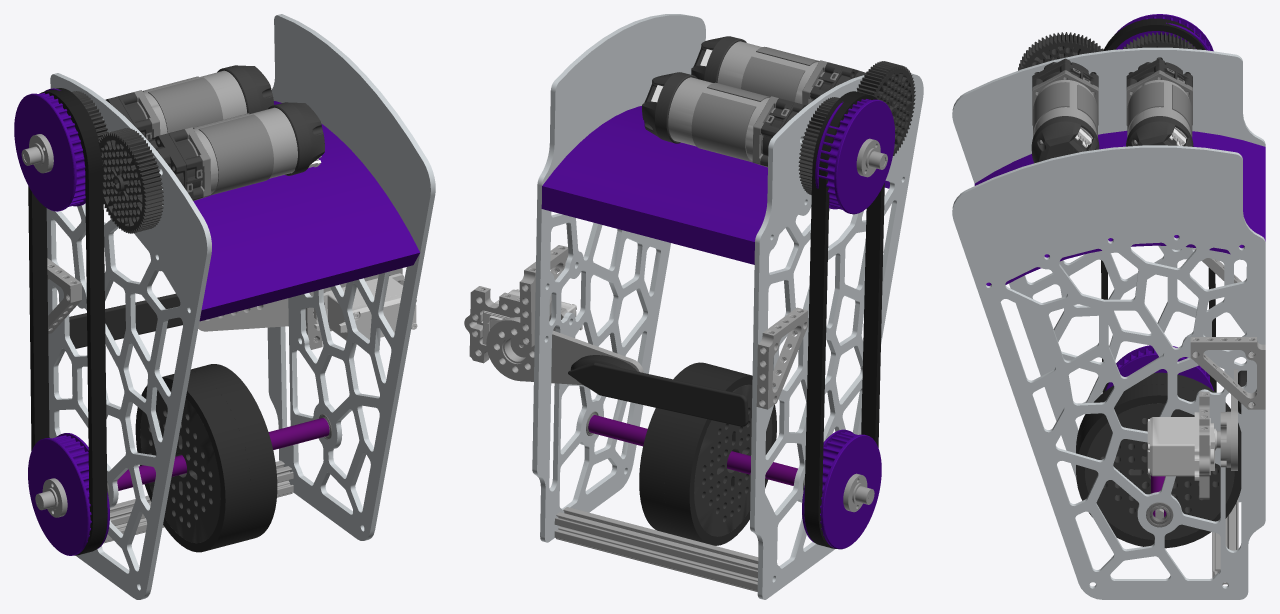
Rendered from shooter.glb.
3 renders of one model, left to right at view 1: azimuth 30°, elevation 25°; view 2: azimuth 150°, elevation 25°; view 3: azimuth 270°, elevation 25°, orthographic. The views are drawn at different scales.
Visible parts, largest first — view 1: Part 1-4.step-1, sev _1_.step-1/3612 Series Thin Rhino Wheel (14mm Bore, 96mm; view 2: Part 1-4.step-1, sev _1_.step-1/3612 Series Thin Rhino Wheel (14mm Bore, 96mm; view 3: Part 1-4.step-1, sev _1_.step-1/3612 Series Thin Rhino Wheel (14mm Bore, 96mm.
Part boxes in pixels (x1=…): Part 1-4.step-1: x1=14, y1=14, x2=435, y2=599; sev _1_.step-1/3612 Series Thin Rhino Wheel (14mm Bore, 96mm: x1=135, y1=364, x2=277, y2=552; Part 1-4.step-1: x1=464, y1=14, x2=923, y2=599; sev _1_.step-1/3612 Series Thin Rhino Wheel (14mm Bore, 96mm: x1=639, y1=362, x2=776, y2=545; Part 1-4.step-1: x1=952, y1=14, x2=1265, y2=599; sev _1_.step-1/3612 Series Thin Rhino Wheel (14mm Bore, 96mm: x1=1076, y1=372, x2=1241, y2=548.
Bounding box in the file's own units: 0.2496 × 0.2909 × 0.1795.
Materials: 2 (2 with a texture image).
